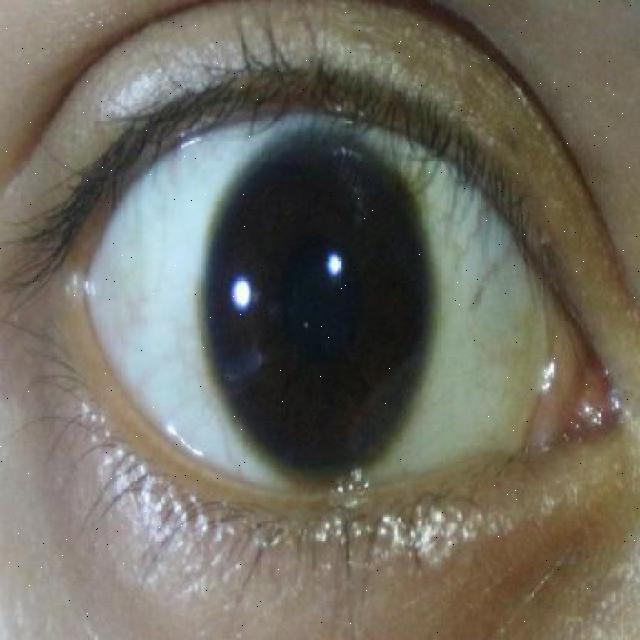Normal: (204, 131, 431, 483)
